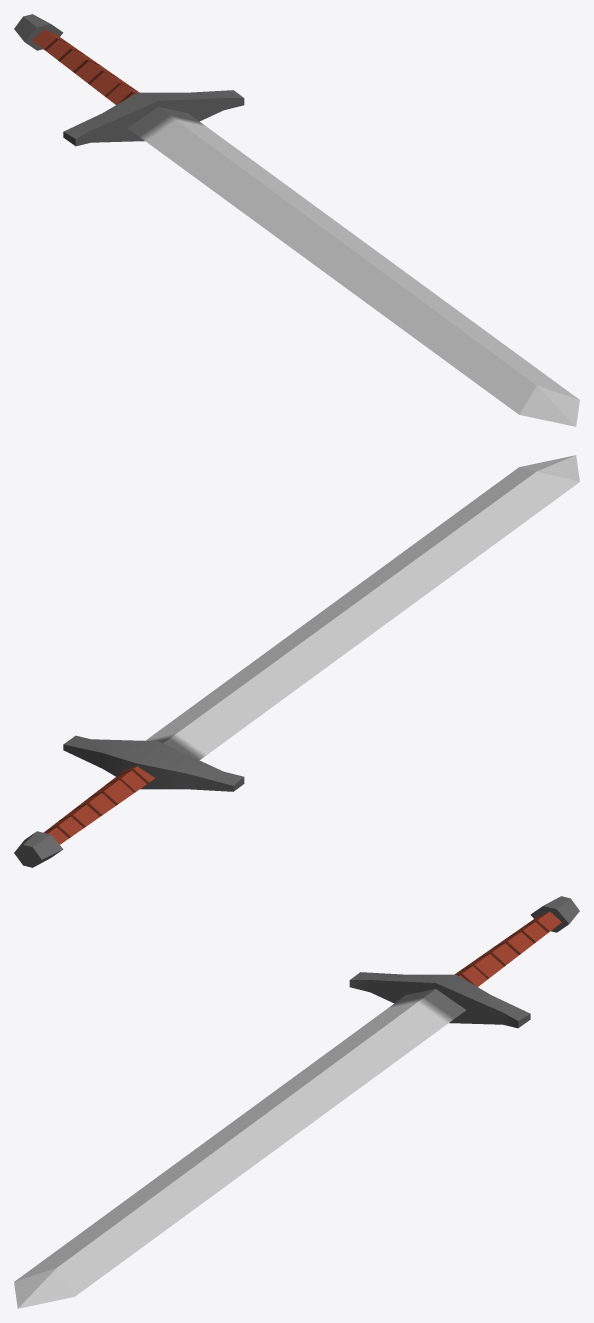
File: SwordBasic_A.glb
The picture shows the model from 3 angles, top to bottom: view 1: azimuth 30°, elevation 25°; view 2: azimuth 150°, elevation 25°; view 3: azimuth 330°, elevation 25°; orthographic projection.
Parts seen in each view (by area): view 1: SwordBasic_A.001; view 2: SwordBasic_A.001; view 3: SwordBasic_A.001.
Part boxes in pixels (<box>): SwordBasic_A.001: <box>14,14,579,426</box>; SwordBasic_A.001: <box>14,455,579,867</box>; SwordBasic_A.001: <box>14,896,579,1308</box>.
Bounding box in the file's own units: 0.251 × 0.0559 × 1.4.
1 material, 1 textured.
